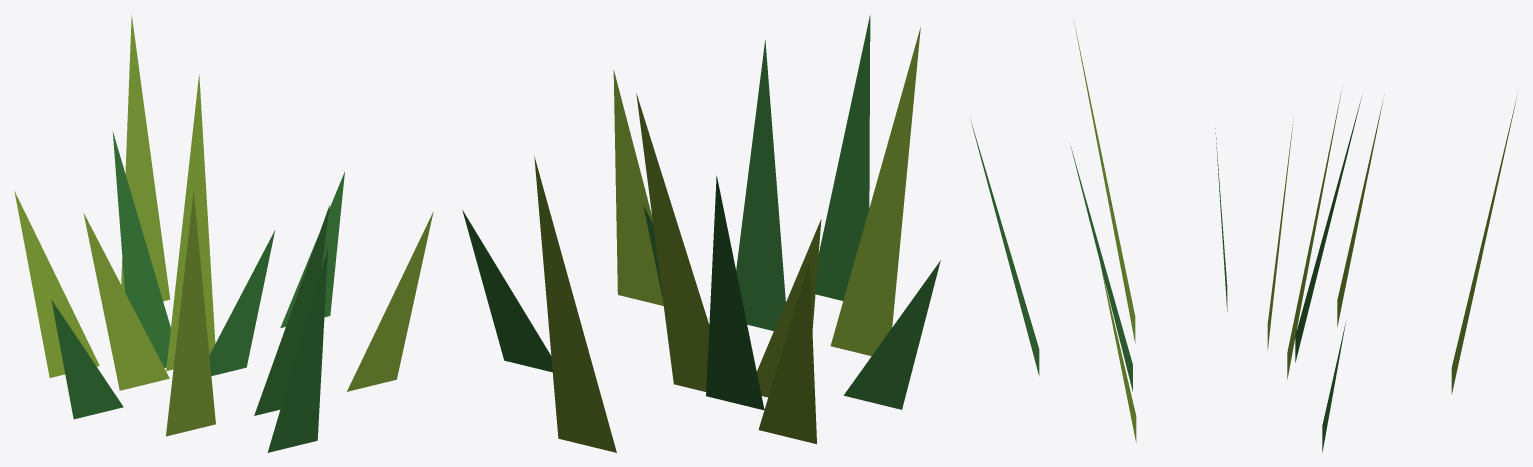
File: dune_grass_patch.glb
3 renders of one model, left to right at view 1: azimuth 30°, elevation 25°; view 2: azimuth 150°, elevation 25°; view 3: azimuth 270°, elevation 25°, orthographic. The views are drawn at different scales.
Parts seen in each view (by area): view 1: dune_grass_patch_pc; view 2: dune_grass_patch_pc; view 3: dune_grass_patch_pc.
Part boxes in pixels (x1,y1,x2,y2): dune_grass_patch_pc: [14, 15, 433, 452]; dune_grass_patch_pc: [462, 15, 940, 452]; dune_grass_patch_pc: [970, 21, 1517, 452].
Bounding box in the file's own units: 0.982 × 0.71 × 1.17.
